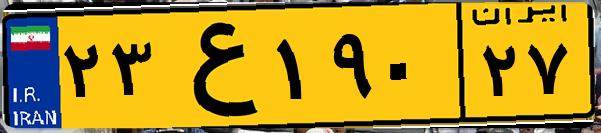0: (385, 28, 445, 110)
1: (270, 28, 330, 110)
2: (57, 26, 110, 100), (475, 38, 525, 113)
3: (110, 28, 158, 98)
7: (525, 38, 570, 115)
9: (330, 28, 385, 110)
ع: (158, 12, 270, 120)
